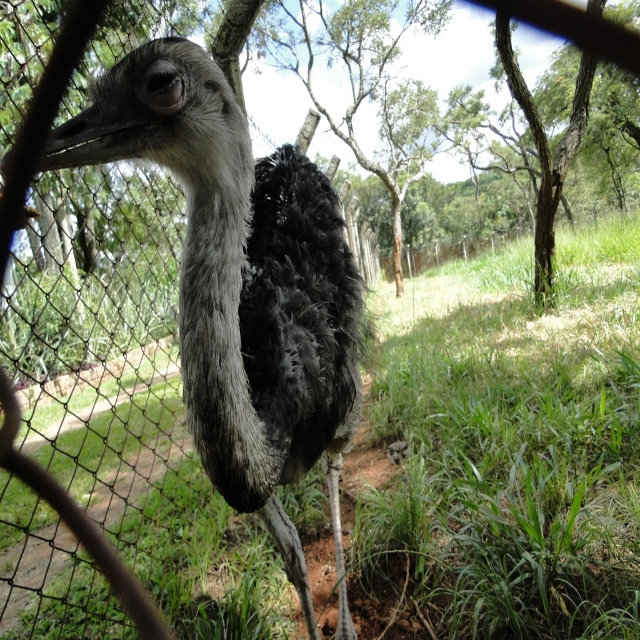Ostrich: (1, 25, 392, 640)
